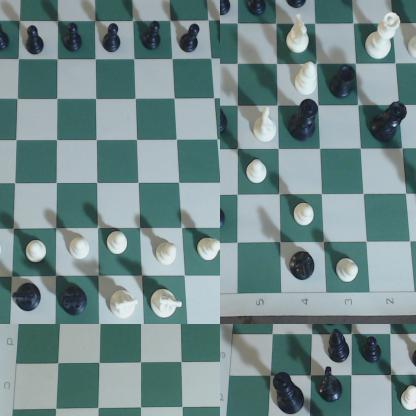black-bishop: (326, 328, 355, 368), (286, 1, 309, 10)
black-king: (272, 368, 308, 416), (290, 99, 320, 143)
black-knight: (57, 282, 93, 320), (317, 367, 346, 410), (12, 279, 44, 316), (289, 250, 317, 281)
black-pawn: (179, 20, 203, 58), (24, 26, 49, 59), (142, 19, 165, 54), (65, 22, 88, 55), (102, 23, 123, 58), (361, 336, 382, 363), (1, 20, 15, 51), (246, 1, 269, 18), (221, 102, 230, 136), (221, 206, 229, 232), (221, 1, 233, 18), (411, 336, 416, 372)
black-queen: (370, 98, 410, 146)
black-rook: (331, 62, 358, 98)
white-bishop: (295, 61, 320, 98)
white-knight: (149, 288, 185, 322), (285, 14, 312, 55), (254, 108, 280, 145), (109, 289, 140, 318)
white-pawn: (143, 230, 180, 273), (102, 219, 133, 261), (190, 228, 220, 271), (64, 230, 95, 265), (21, 239, 56, 267), (336, 257, 362, 285), (395, 382, 416, 416), (292, 201, 317, 226), (247, 159, 269, 185), (1, 231, 10, 267)
white-queen: (367, 11, 403, 61)
white-rook: (408, 24, 416, 62)
